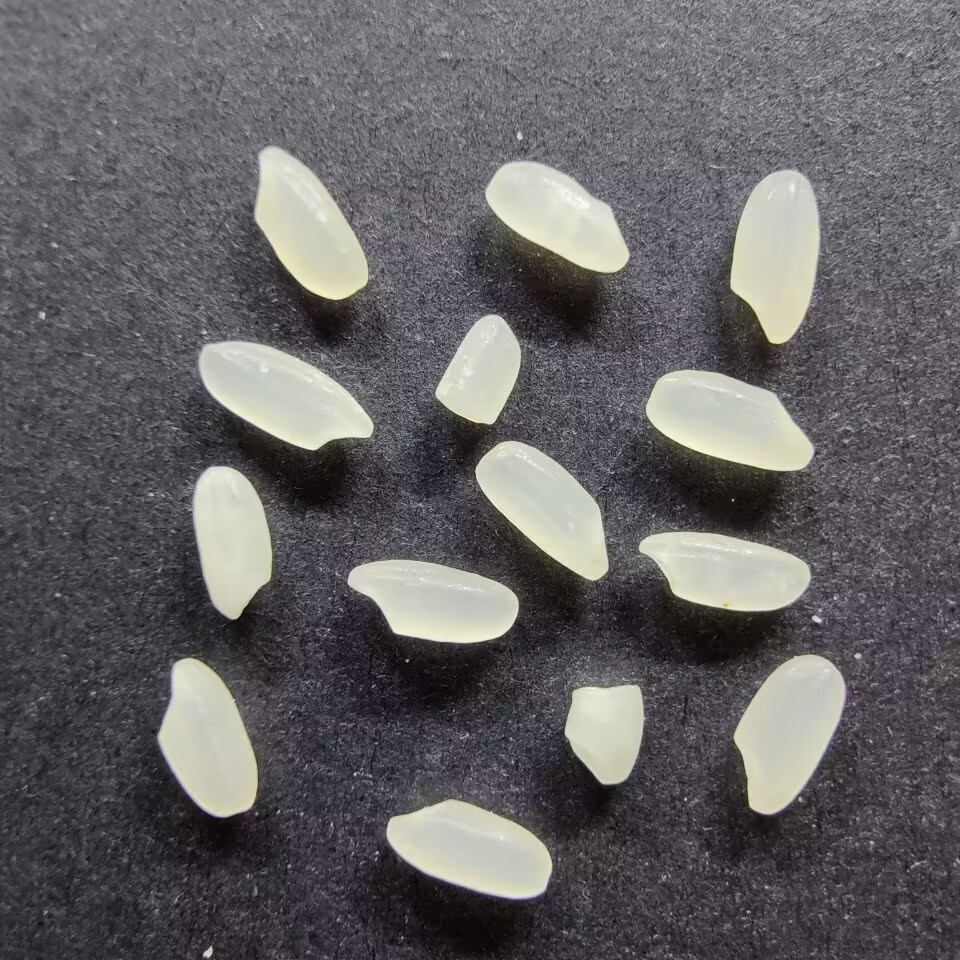broken: (432, 312, 522, 426), (562, 680, 645, 787)
rice: (196, 340, 377, 453), (473, 438, 611, 582), (731, 654, 846, 815), (252, 146, 369, 301), (643, 369, 817, 473), (385, 797, 553, 900), (154, 657, 259, 817), (485, 160, 629, 274), (728, 168, 820, 346), (346, 558, 520, 645), (636, 531, 812, 613), (191, 462, 275, 622)
